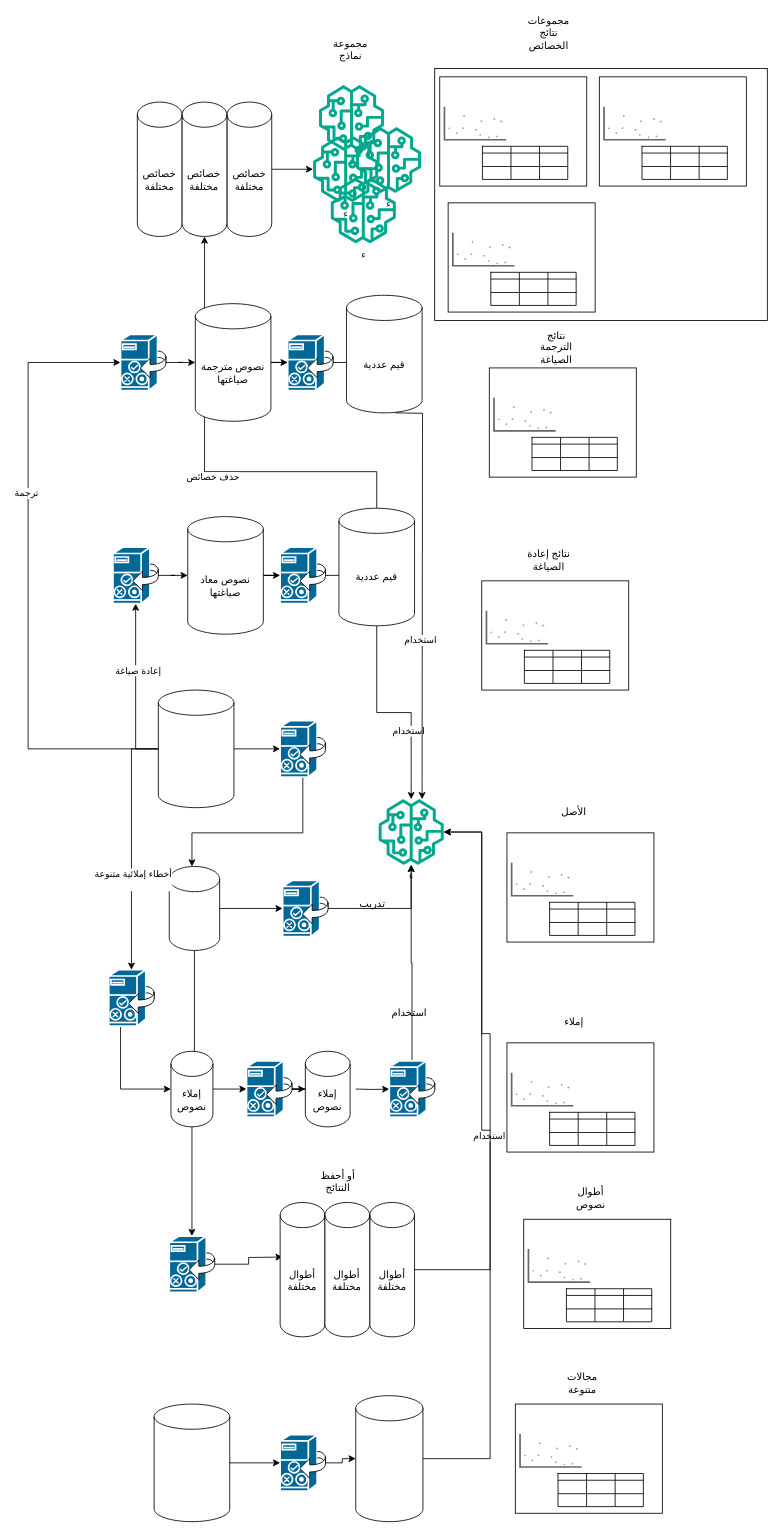
Some shapes in this 782 by 1536 pixel diagram are drawn without their labels. The shapes that lost their labels are listed below. From the top down, each one's centre as x and y in pixels, then its label:
the point at 196,748: نصوص
the point at 194,908: قيم
the point at 191,1462: مقالات جديدة من مجالات متنوعة
the point at 389,1458: مقالات جديدة من مجالات متنوعة كقيم
